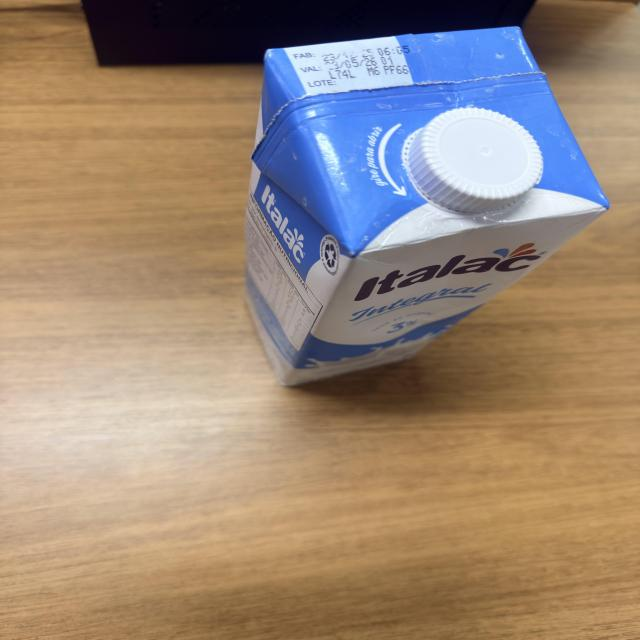Caixa de Leite: (242, 28, 604, 384)
